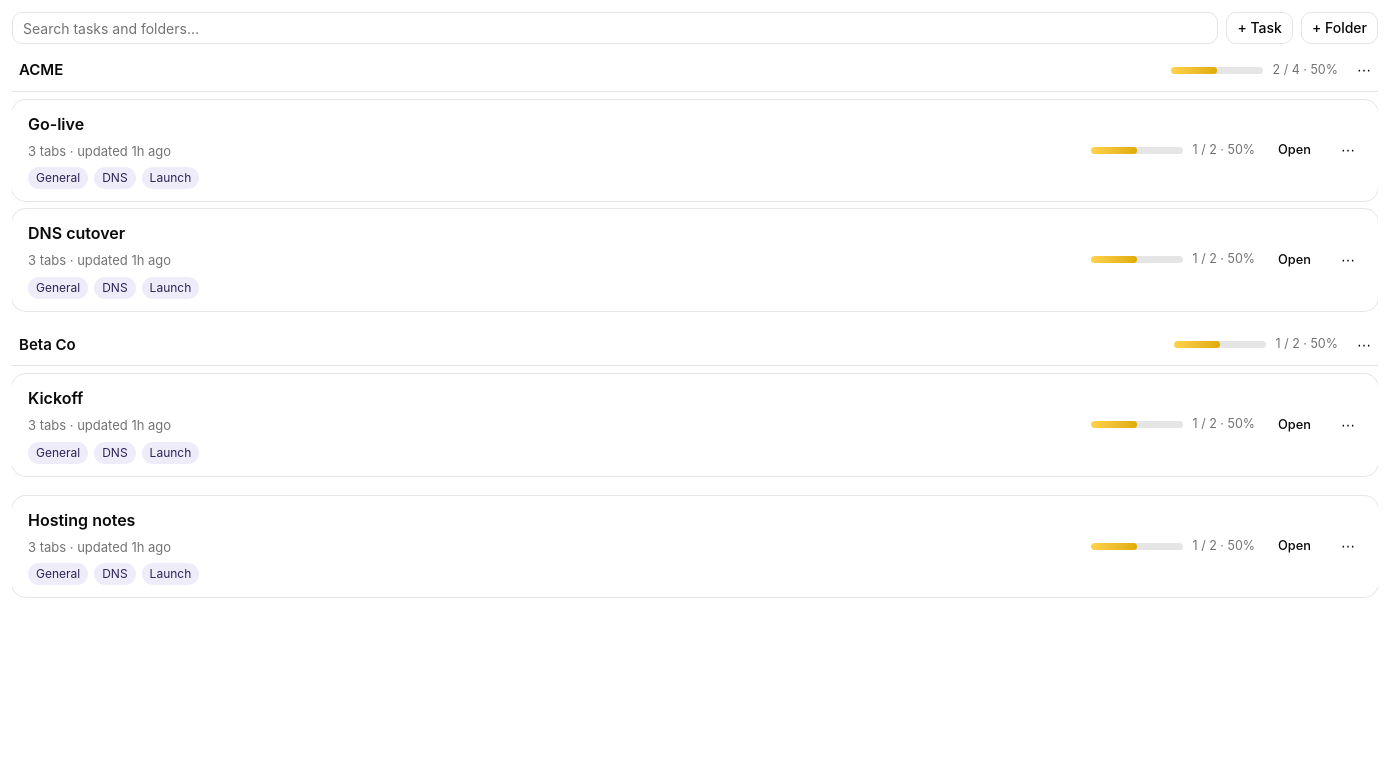
Scenario: a task’s options › renames in place and shows the name the server stored
The width and height of the screenshot is (1390, 780).
Click the button named "Task options" at (1348, 150), box [1334,136,1362,164]
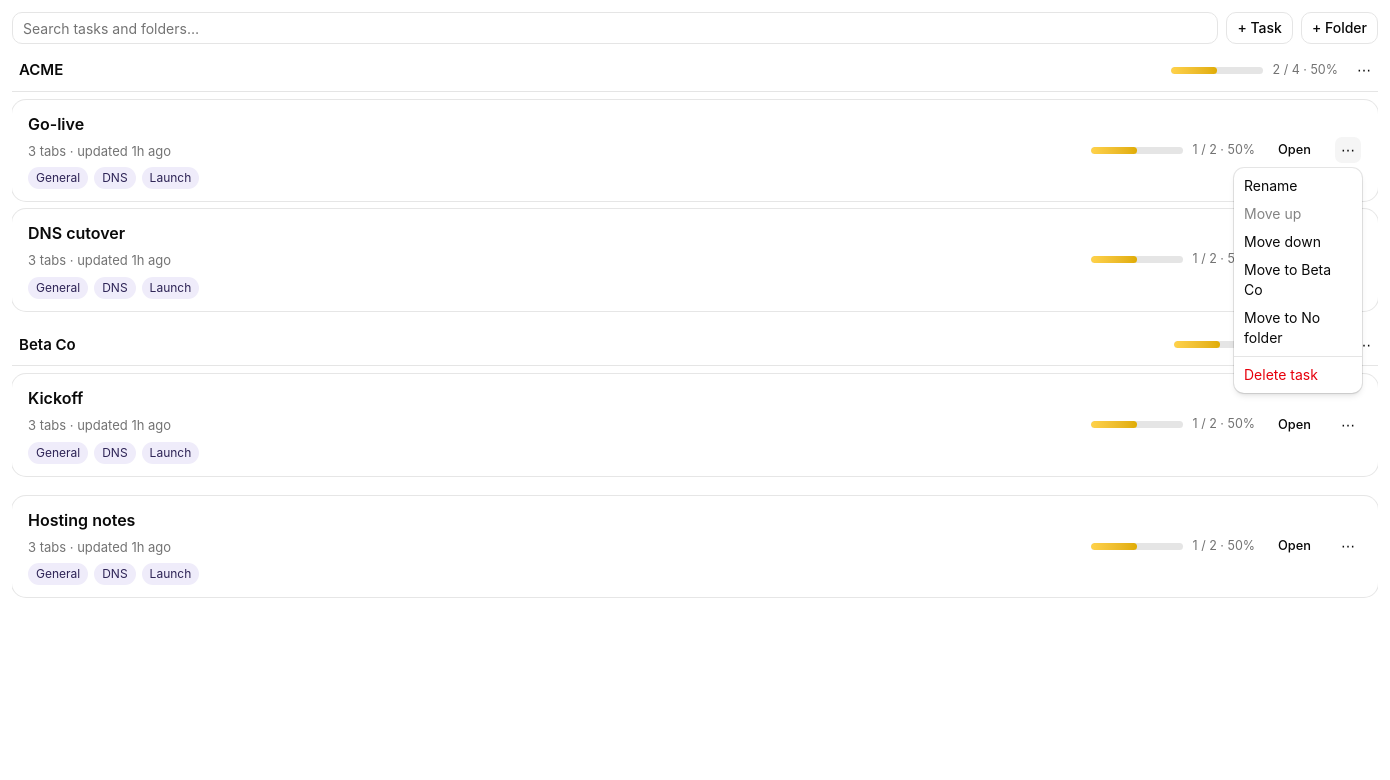
Click the menu item "Rename" at (1271, 186), box [1244,177,1298,194]
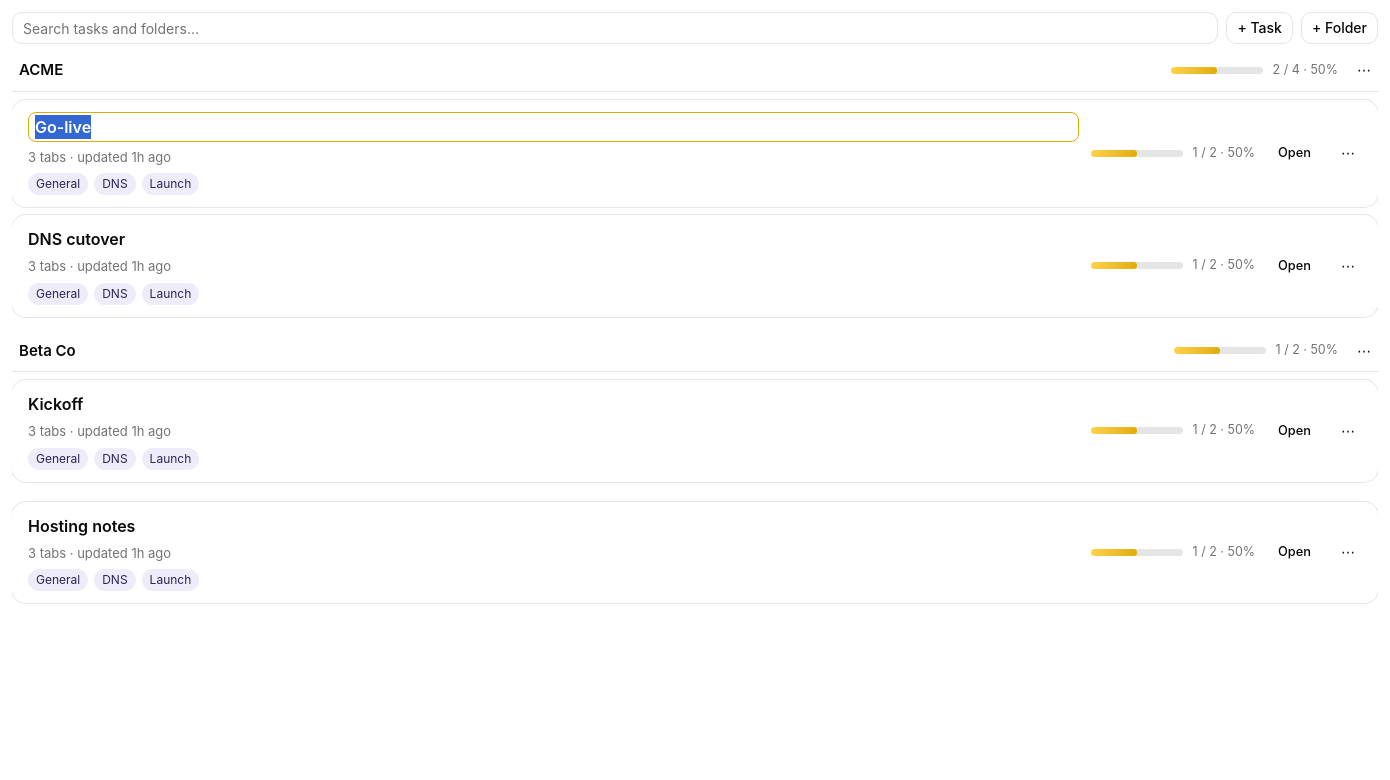
Replace the text in the field named "Task name" with "Launch" at (553, 126), box [28,112,1079,142]
Then press Enter
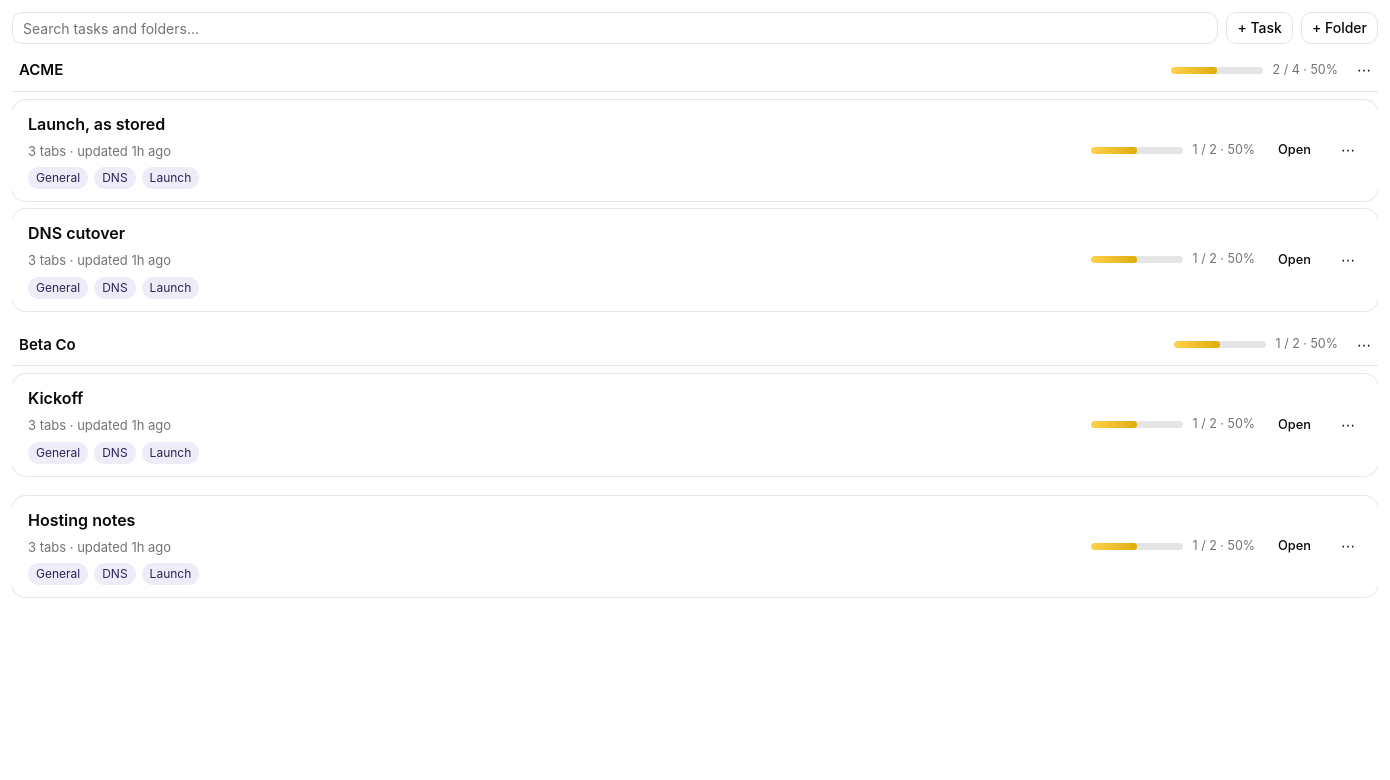
Check: the link "Launch, as stored" is shown, box [28,114,165,134]
